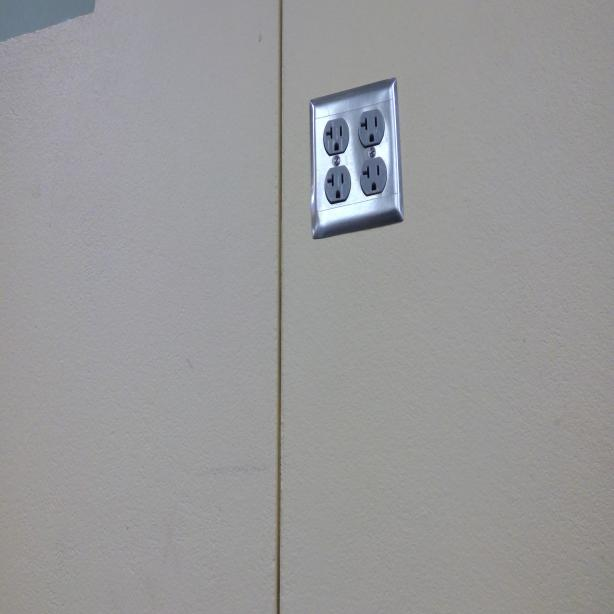typeb: (323, 116, 347, 155), (359, 114, 384, 150), (362, 158, 385, 192), (328, 169, 346, 202)
